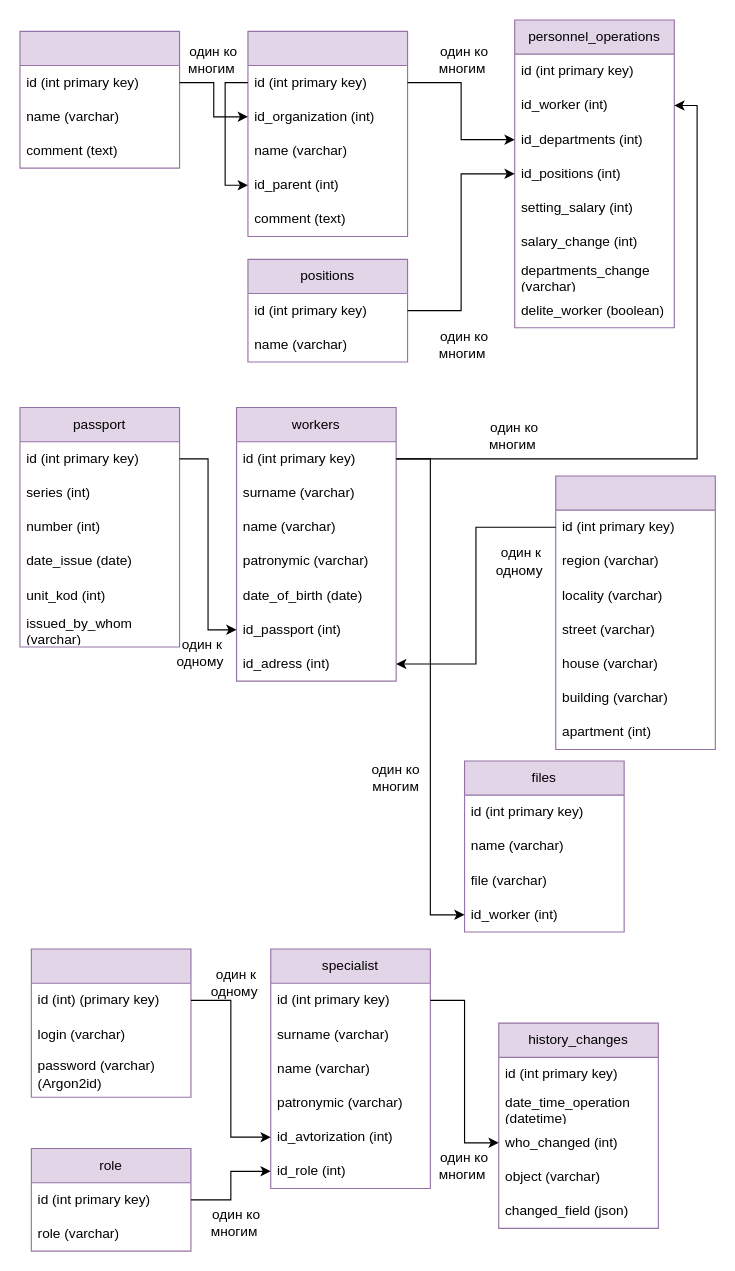
The diagram is 735 pixels wide and 1271 high, and some of its shapes have lost their labels. The box of each missing label's shape, as (x1, y1, x2, y2) in pixels:
adress: (555, 475, 715, 750)
avtorization: (30, 948, 191, 1097)
departments: (247, 30, 408, 237)
organizations: (19, 30, 180, 168)
